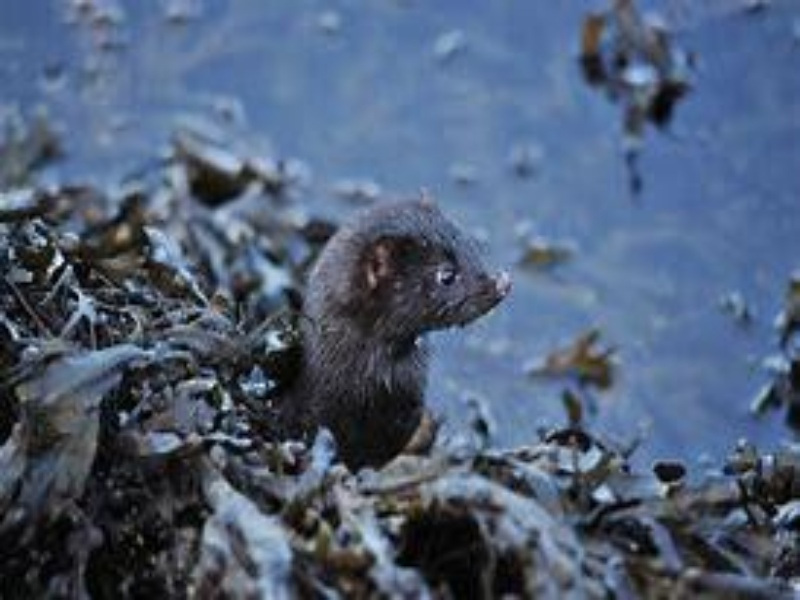minkish: (235, 186, 517, 472)
